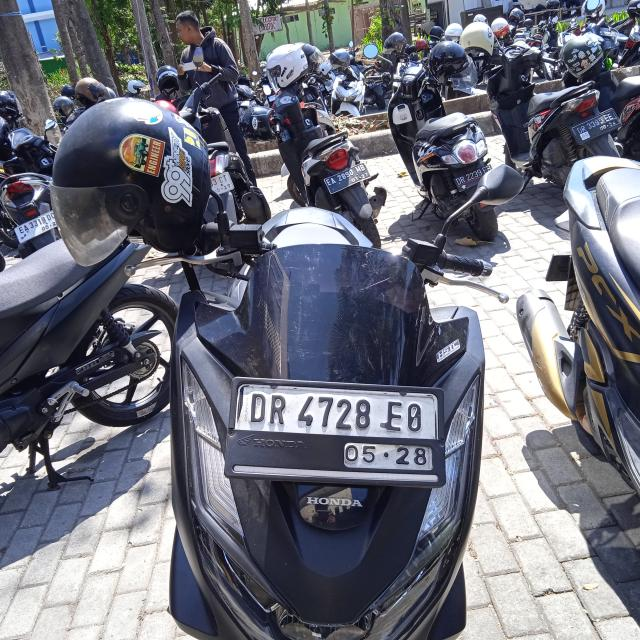plate: (228, 378, 444, 479), (570, 107, 622, 146), (322, 161, 371, 196), (14, 208, 58, 244), (454, 164, 493, 192)
